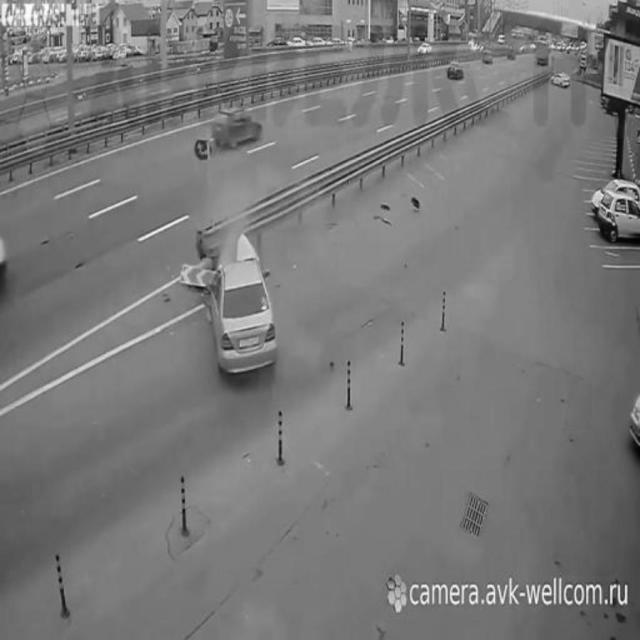vehicle: (206, 256, 278, 384), (211, 102, 265, 153), (598, 181, 640, 242), (446, 56, 468, 83), (550, 64, 572, 91), (535, 33, 551, 67), (416, 39, 434, 59), (481, 44, 496, 68)
